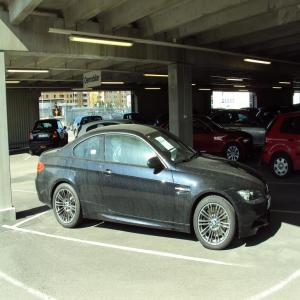Vehicle-registration-plate: (268, 196, 272, 212), (39, 135, 50, 138)
